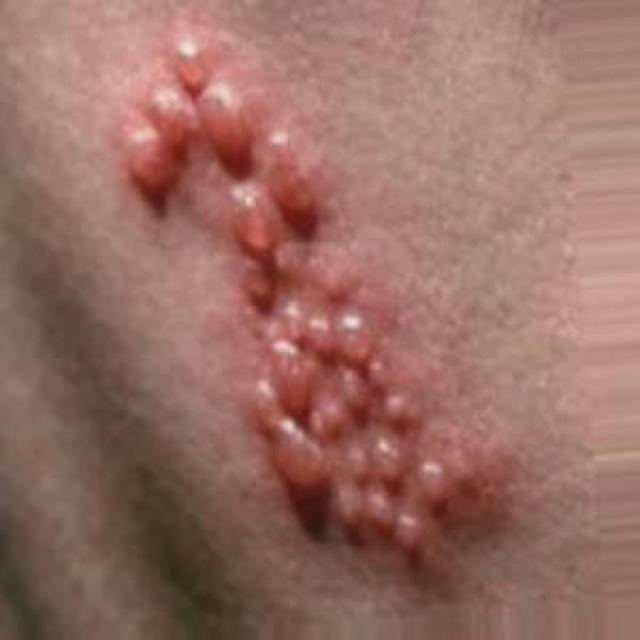Shingles: (117, 34, 455, 558)
